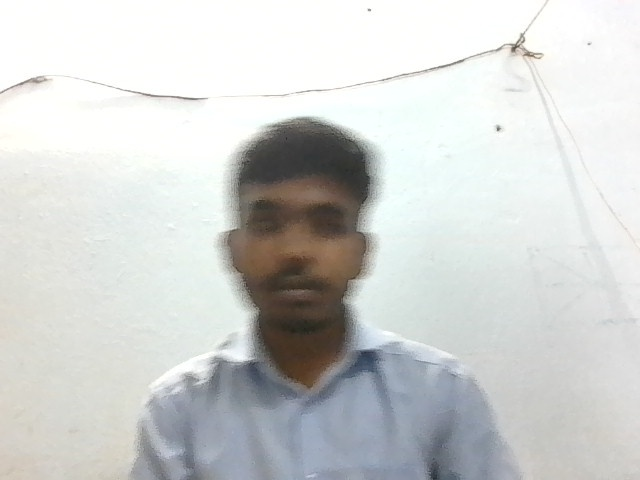real: (210, 105, 379, 344)
